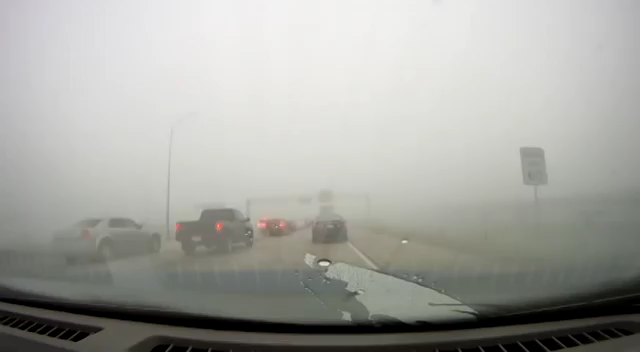car: (49, 215, 161, 264), (174, 208, 255, 254), (310, 213, 347, 243), (259, 216, 292, 238)
